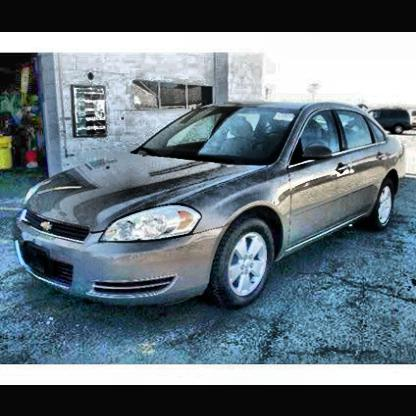Chevrolet Impala Sedan 2007: (9, 102, 414, 311)
